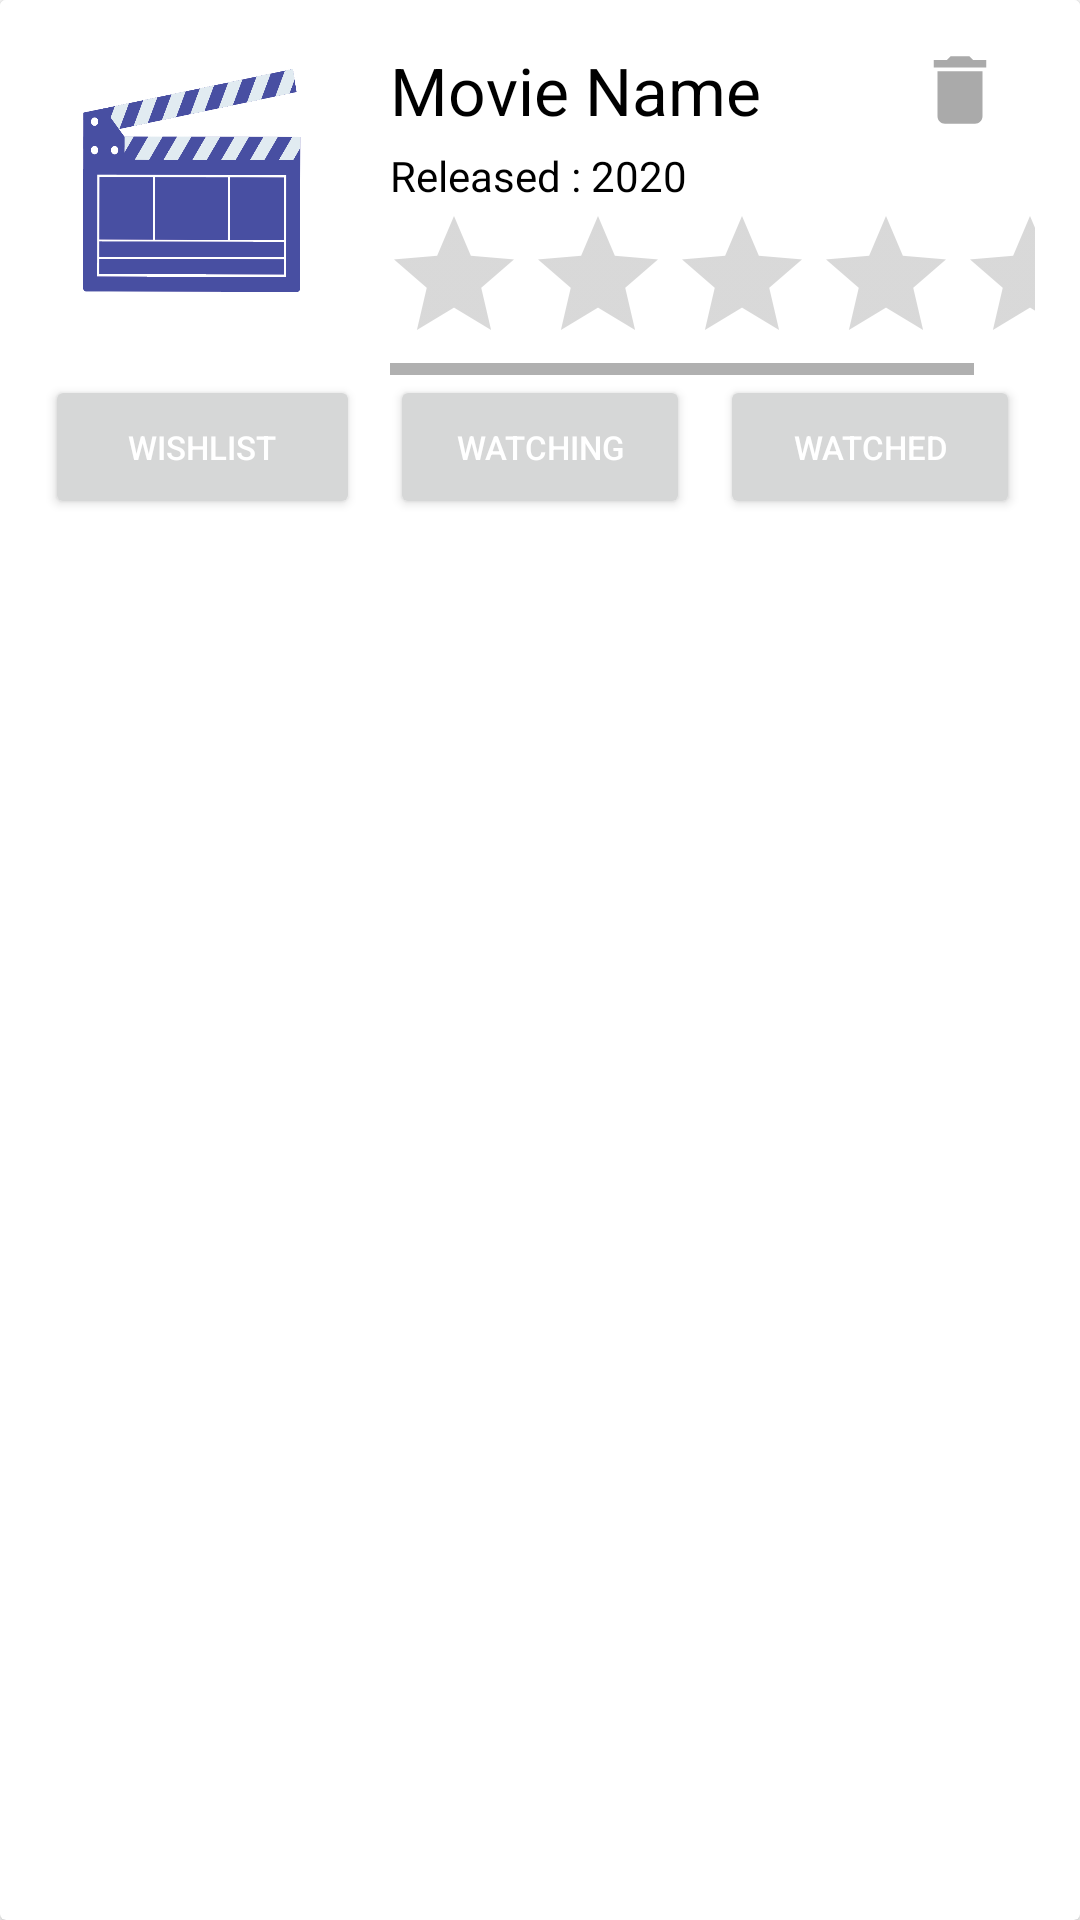

Icon click points for this 1080×1920 phone screenshot, format (x,y):
delete: (960,90)
movieslist: (192,180)
